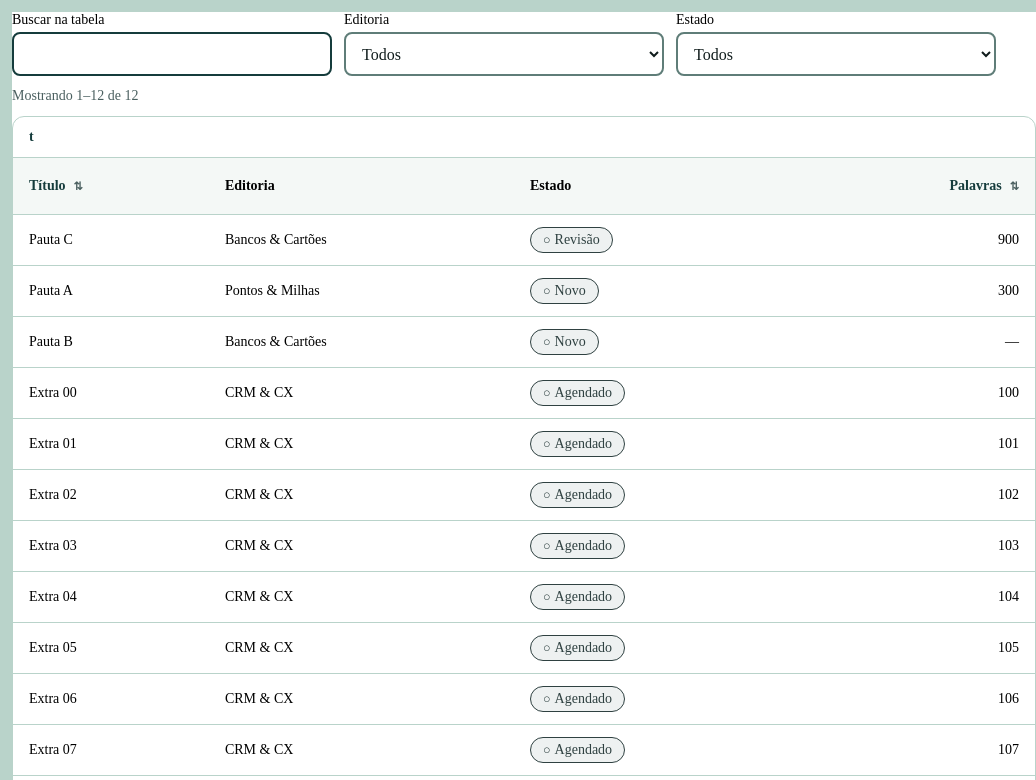
Test case: DataTable › ordena asc → desc → sem ordem, com aria-sort; vazios ficam por último
Click the button "Palavras ⇅". click: (984, 186)
box: [950,170,1019,202]
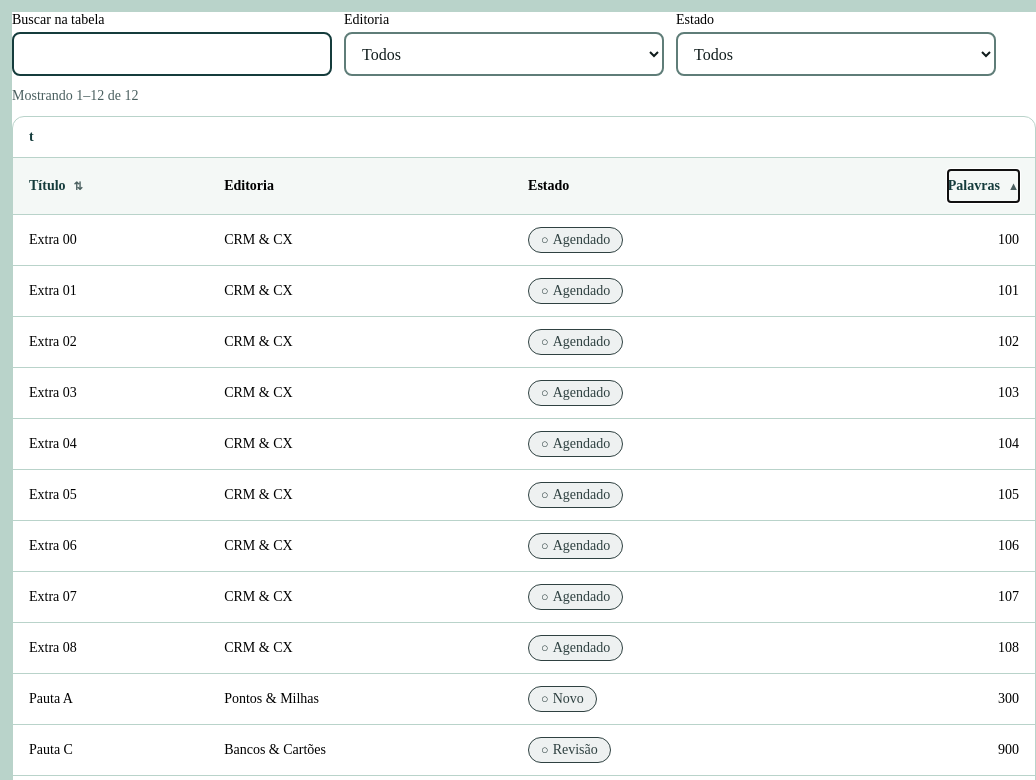
Expected: the column heading "Extra 00" is shown, [13,214,208,266]
Now the column heading "Palavras ▲" has attribute aria-sort="ascending", box [801,158,1035,214]
Click the button "Palavras ▲". click: (983, 186)
box: [948,170,1019,202]
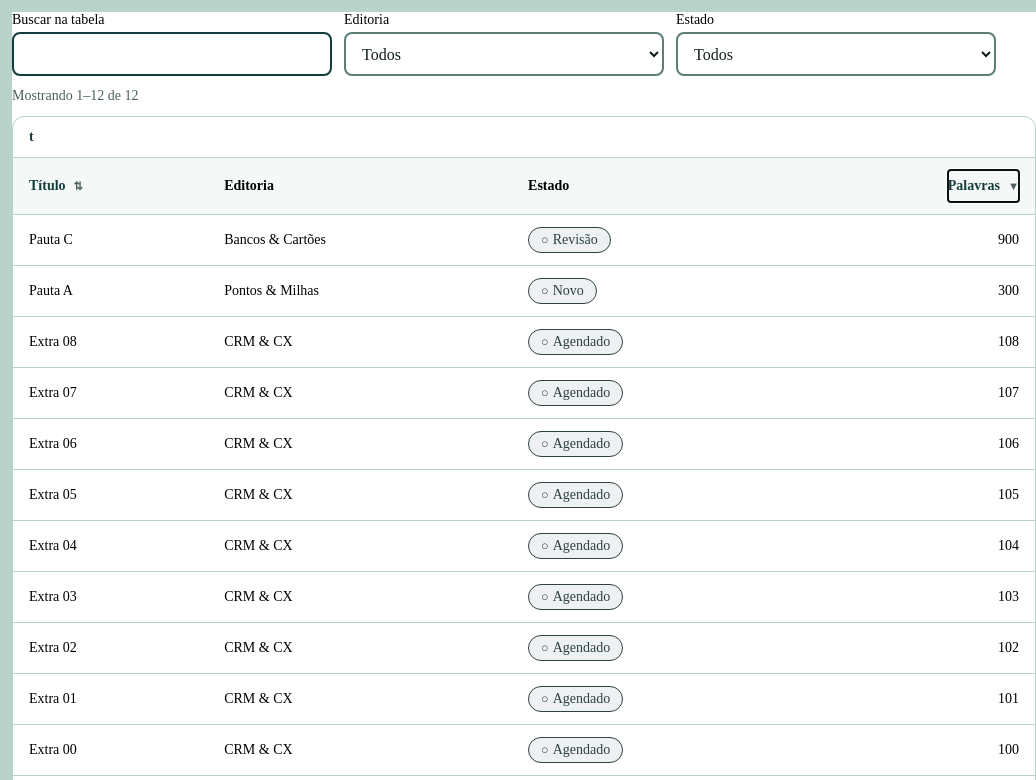
Expected: the column heading "Pauta C" is shown, [13,214,208,266]
Now the column heading "Palavras ▼" has attribute aria-sort="descending", box [801,158,1035,214]
Click the button "Palavras ▼". click: (983, 186)
box: [948,170,1019,202]
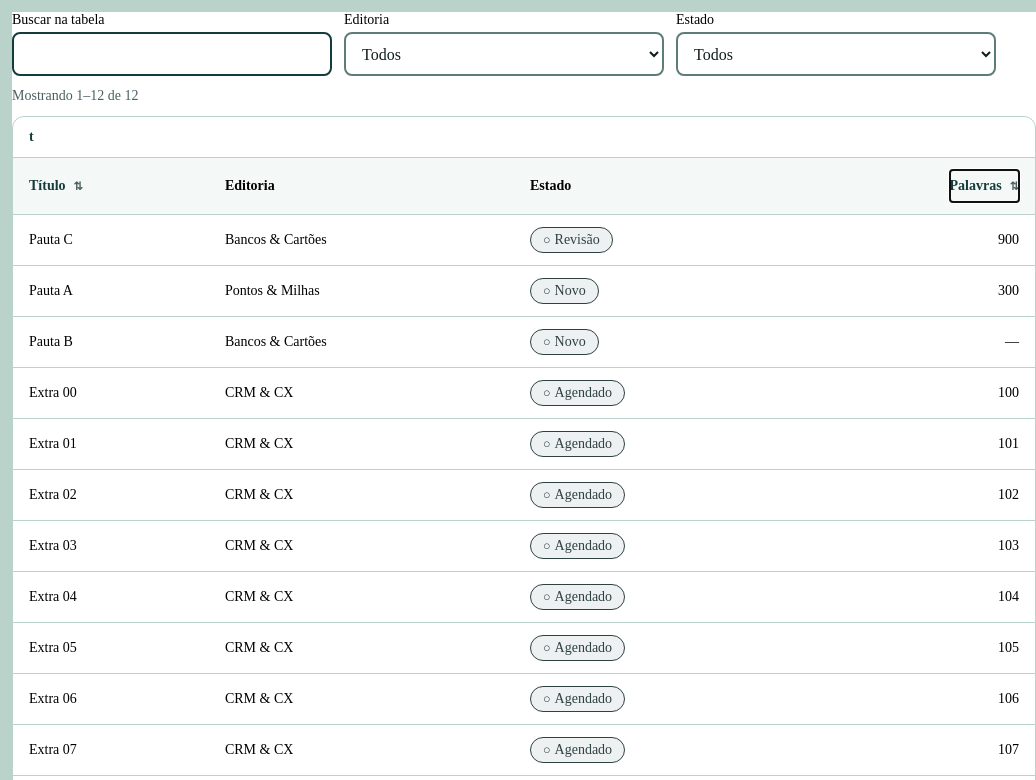
Now the column heading "Palavras ⇅" has attribute aria-sort="none", box [804,158,1035,214]
